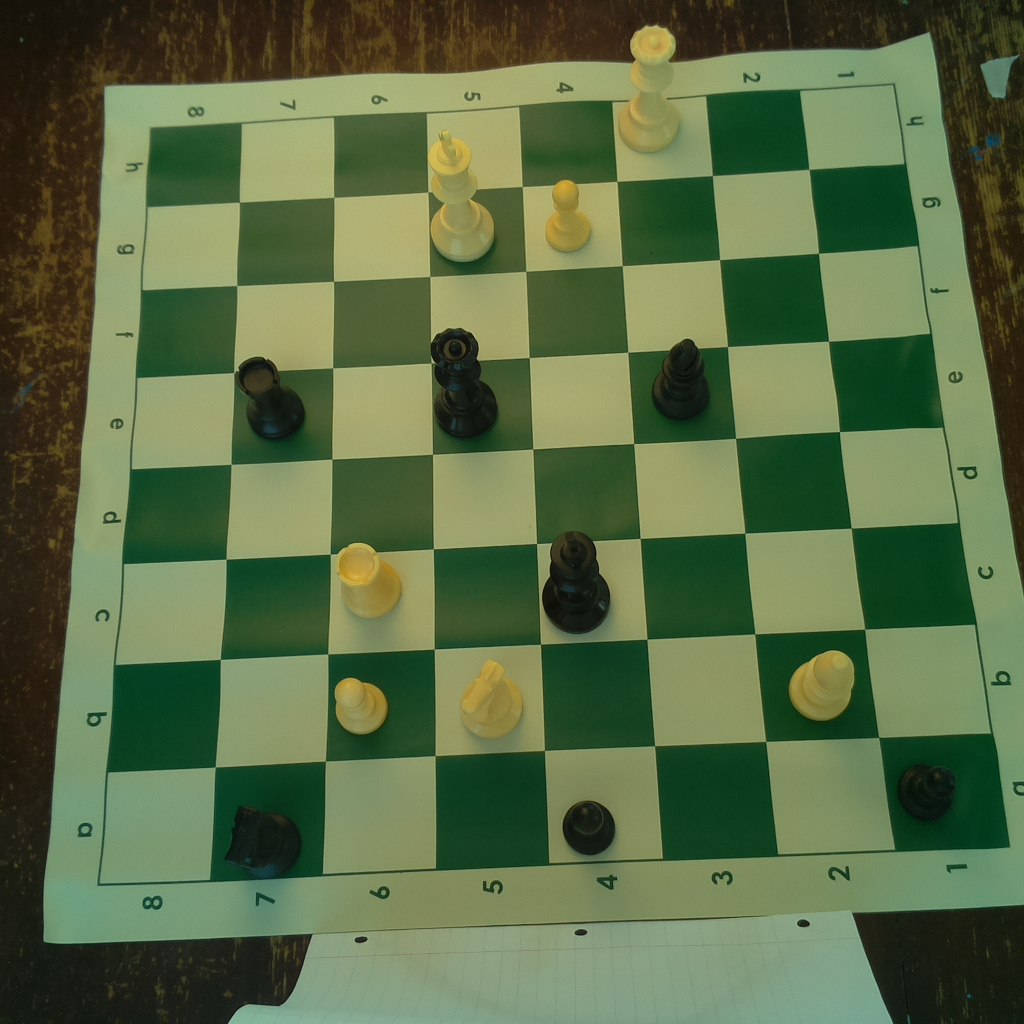black_bishop: (645, 335, 716, 421)
black_king: (540, 525, 615, 638)
black_knight: (225, 801, 306, 880)
black_pawn: (898, 758, 964, 827), (558, 790, 619, 857)
black_queen: (429, 327, 505, 439)
black_rook: (232, 354, 310, 447)
file_a: (97, 734, 1012, 886)
file_b: (106, 622, 993, 775)
file_c: (114, 521, 976, 665)
file_d: (124, 426, 959, 564)
file_e: (131, 334, 945, 469)
file_f: (138, 245, 931, 380)
file_g: (141, 165, 918, 291)
file_h: (145, 84, 906, 208)
outline: (99, 84, 1012, 887)
rank_1: (801, 84, 1010, 854)
rank_2: (707, 91, 897, 856)
rank_3: (612, 96, 781, 858)
rank_4: (520, 99, 664, 865)
rank_5: (425, 106, 547, 870)
rank_6: (321, 110, 437, 871)
rank_7: (208, 117, 333, 886)
rank_8: (99, 125, 245, 890)
white_bishop: (783, 644, 857, 725)
white_king: (420, 127, 497, 260)
white_knight: (453, 654, 531, 745)
white_pawn: (541, 177, 598, 256), (328, 673, 392, 739)
white_queen: (616, 22, 684, 154)
white_rook: (328, 536, 406, 617)
